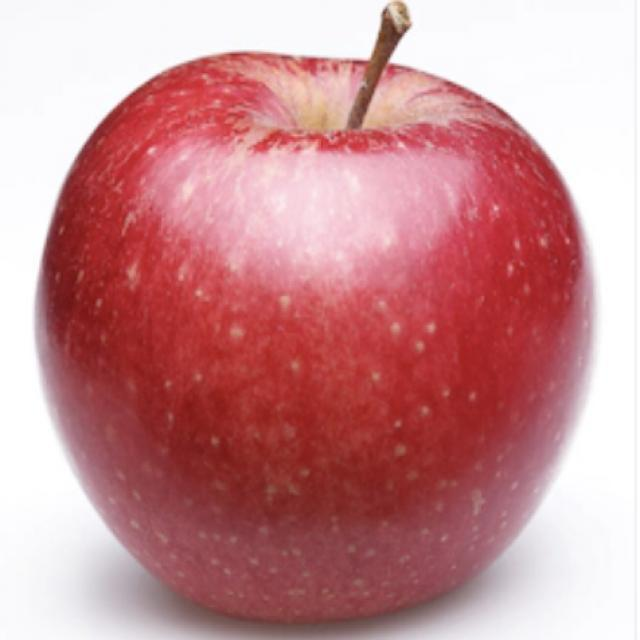Fresh Apple: (63, 43, 591, 640)
